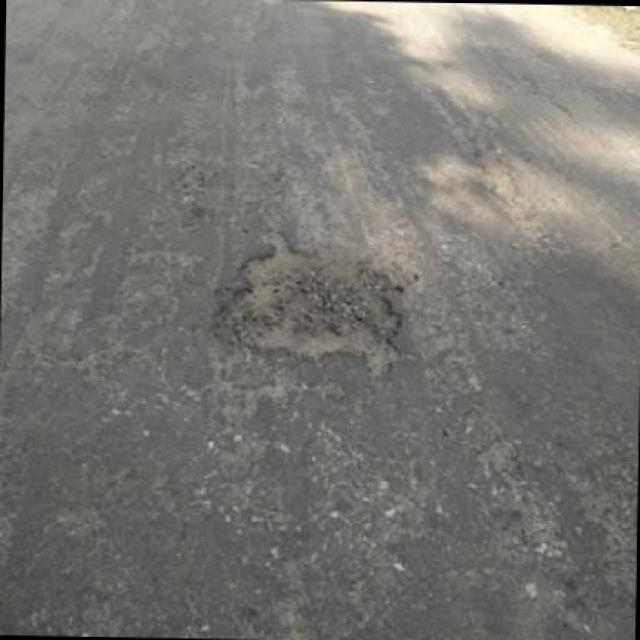pothole1: (200, 232, 414, 374), (468, 434, 522, 478)
